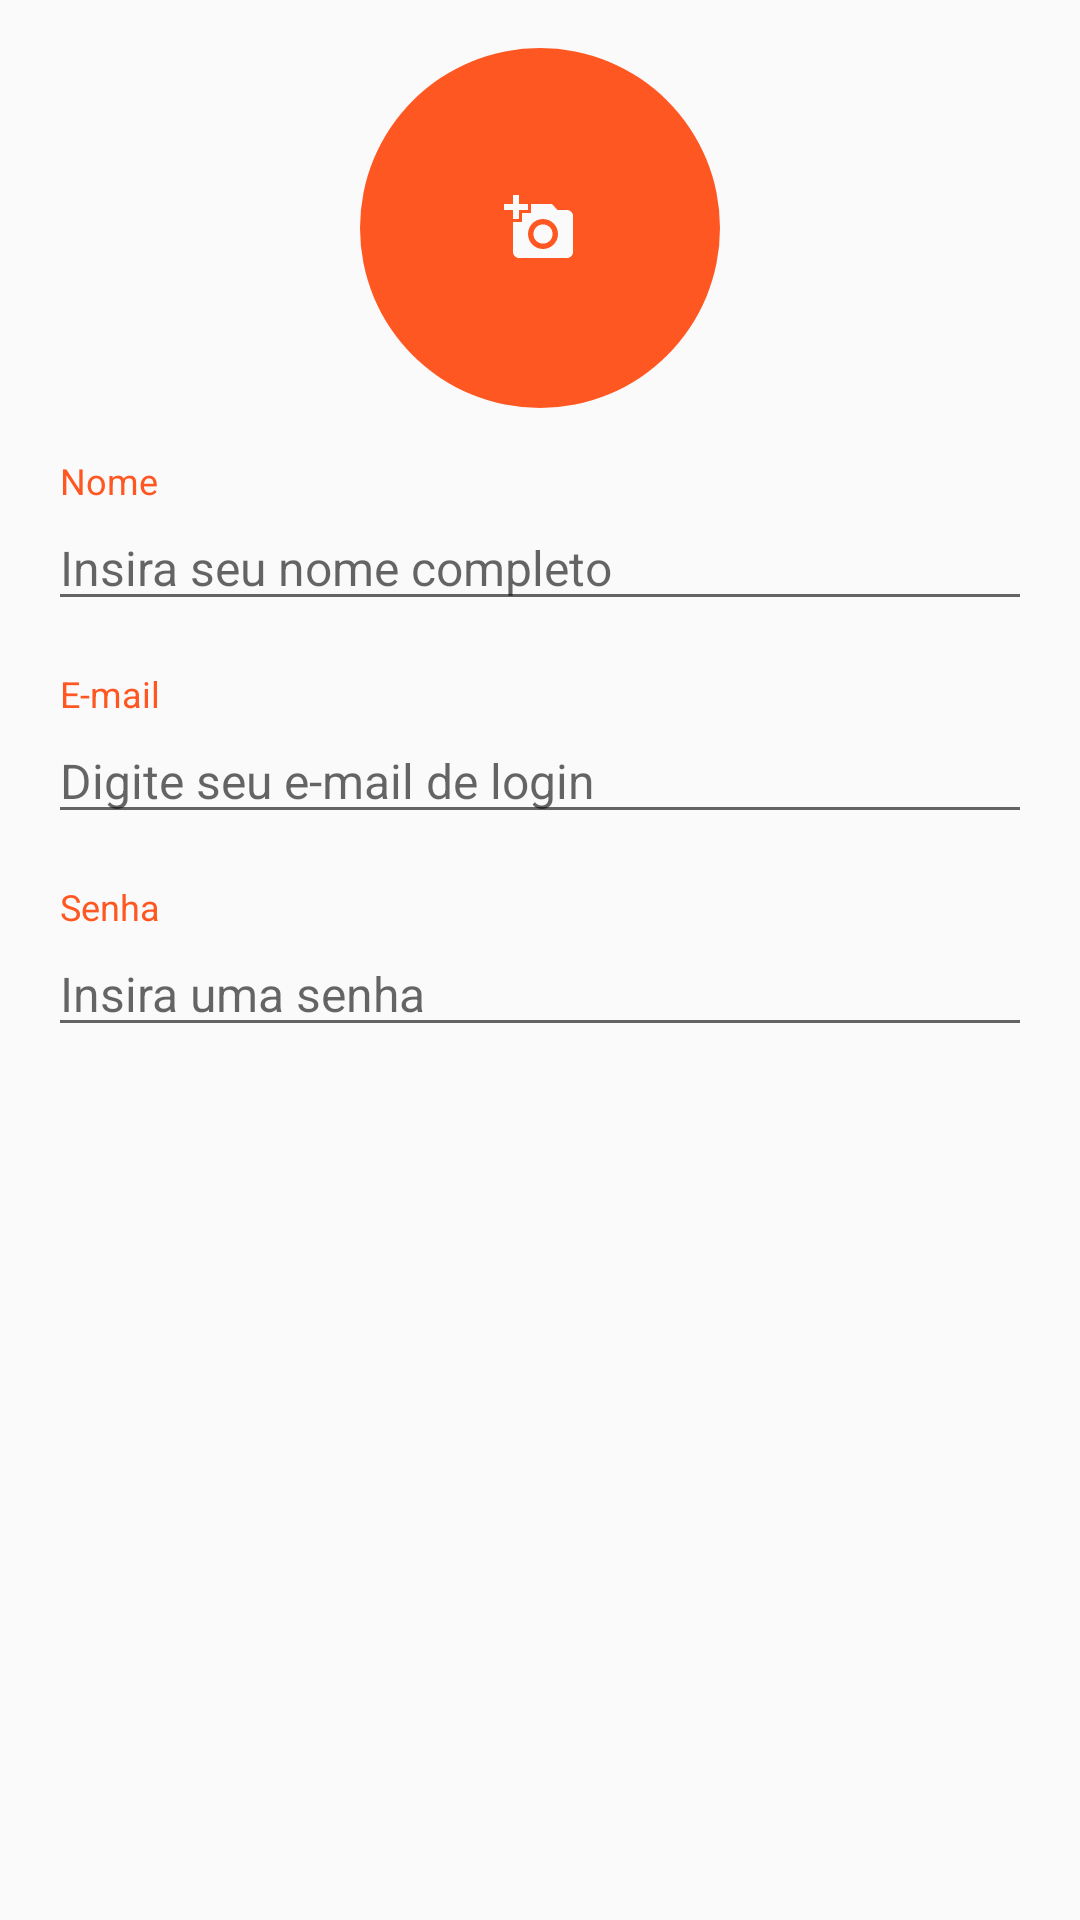

Icon click points for this 1080px x 1920px phone screenshot, format [x,y]:
add photo: [540,228]
